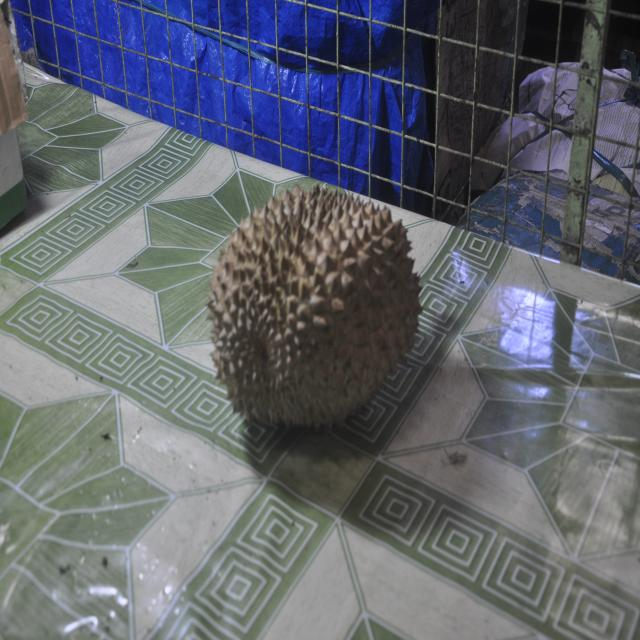mature: (207, 180, 421, 435)
